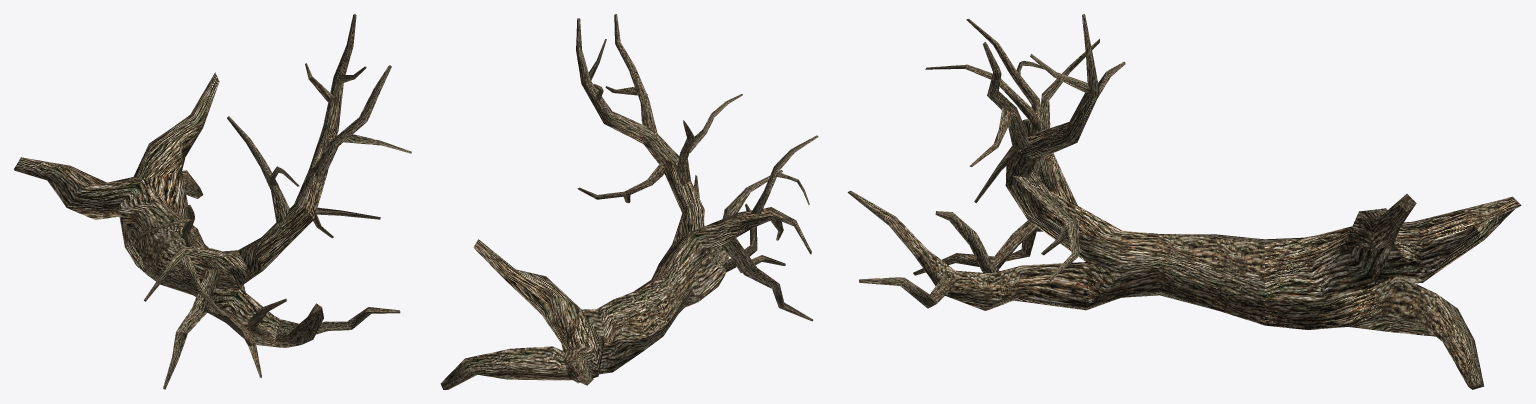
File: hr_tree07.glb
3 renders of one model, left to right at view 1: azimuth 30°, elevation 25°; view 2: azimuth 150°, elevation 25°; view 3: azimuth 270°, elevation 25°, orthographic. The views are drawn at different scales.
Parts seen in each view (by area): view 1: hr_tree07; view 2: hr_tree07; view 3: hr_tree07.
Boxes of the visible parts, x1,y1,x2,y2 form: hr_tree07: (14,14,411,389); hr_tree07: (440,14,818,389); hr_tree07: (847,14,1521,389).
Bounding box in the file's own units: 11.29 × 12.91 × 20.31.
1 material, 1 textured.
